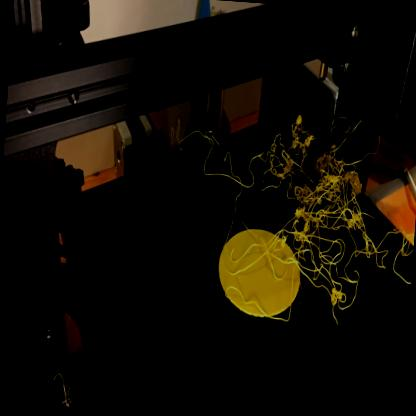fail: (241, 96, 416, 333)
